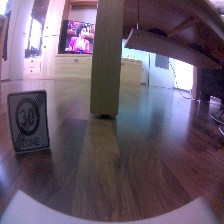dreisiger_zone_ende: (7, 90, 51, 154)
